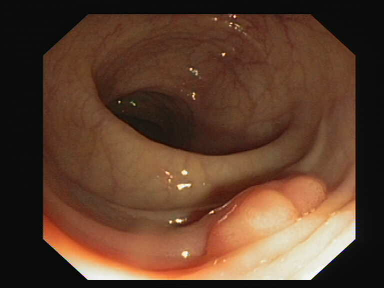polyp: (190, 164, 342, 259)
